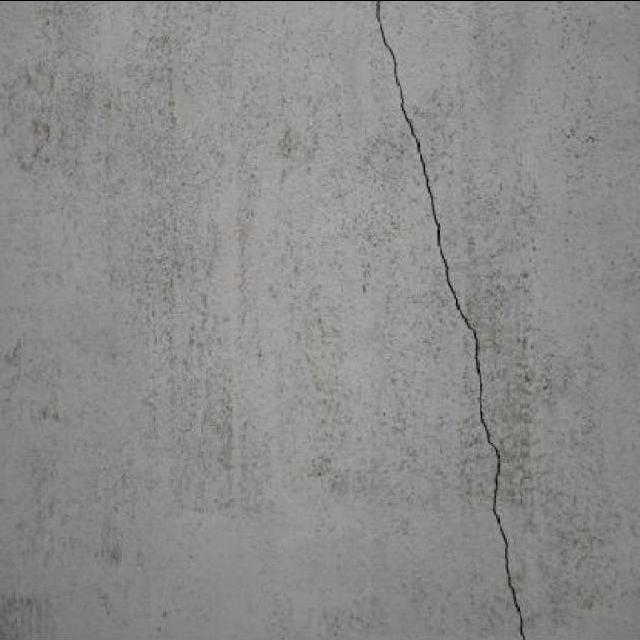Crack: (371, 0, 529, 639)
